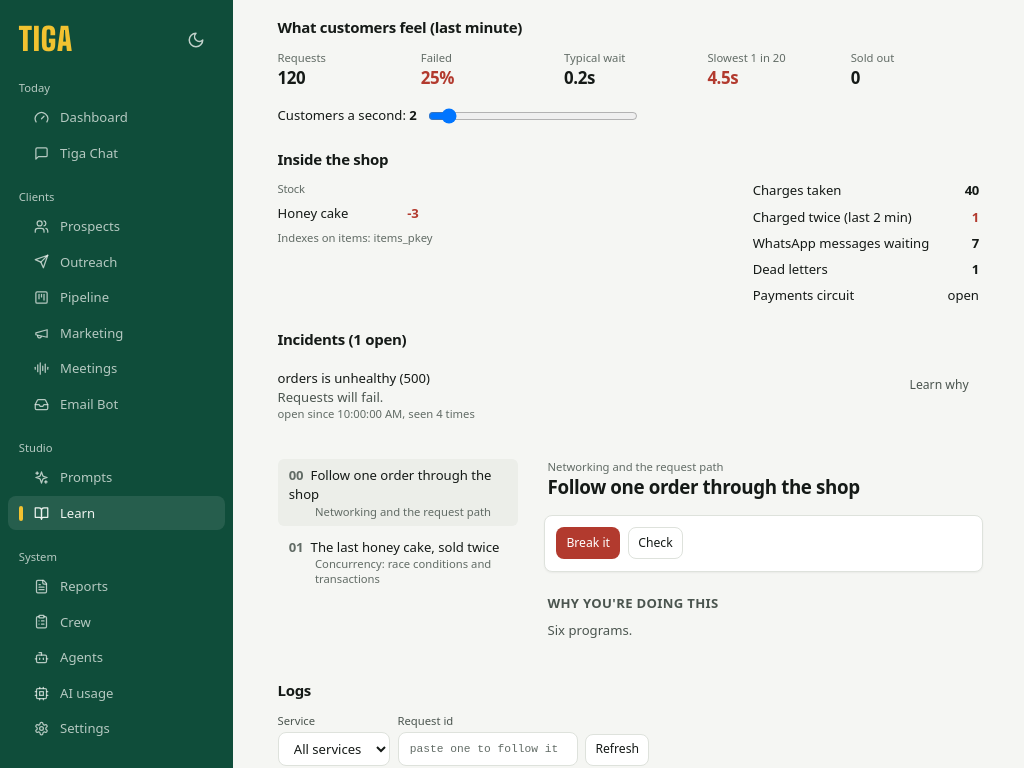
Scenario: Learn (ShopLab) › shows the running lab: service health, what customers feel and open incidents
The width and height of the screenshot is (1024, 768).
(page scrolled)
expect the text "25%" is shown: met, box [421,66,454,89]
expect the text "4.5s" is shown: met, box [707,66,738,89]
Click the button "Learn why": (939, 385) [899,369,979,401]
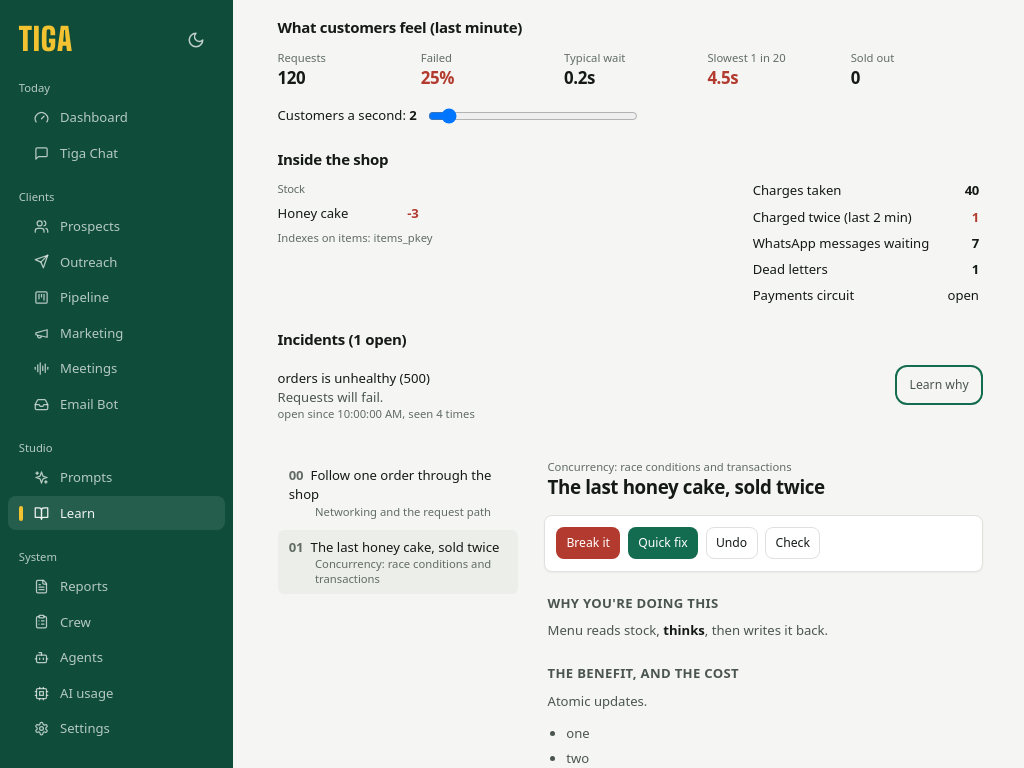
expect the heading "The last honey cake, sold twice" is shown: met, box [548,474,825,499]
